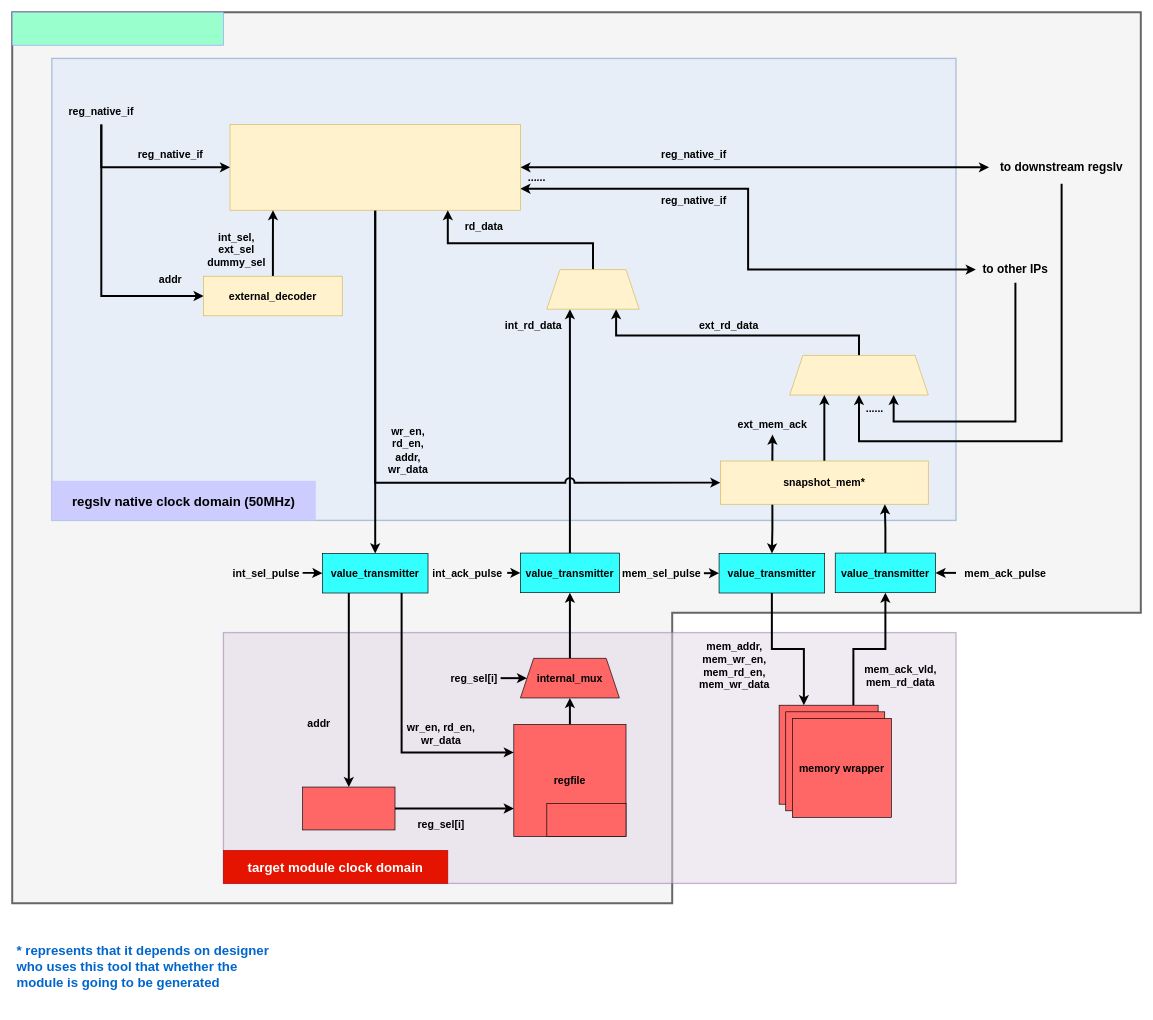
This 1153x1020 diagram has some shape labels left out. The centre of each missing label's shape, as x and y in pixels:
external_mux: pixel 858 375
internal_decoder: pixel 348 808
Register Access Slave (regslv): pixel 117 28
slv_fsm: pixel 374 167
snapshot_reg*: pixel 586 820
ultimate_mux: pixel 592 289
